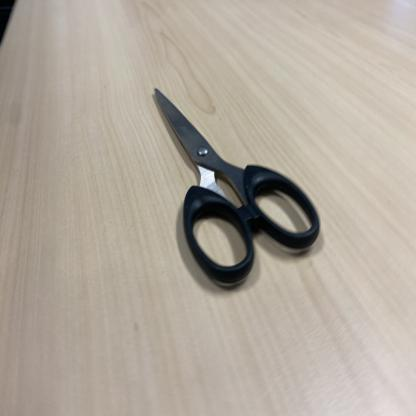scissors: (154, 88, 323, 286)
